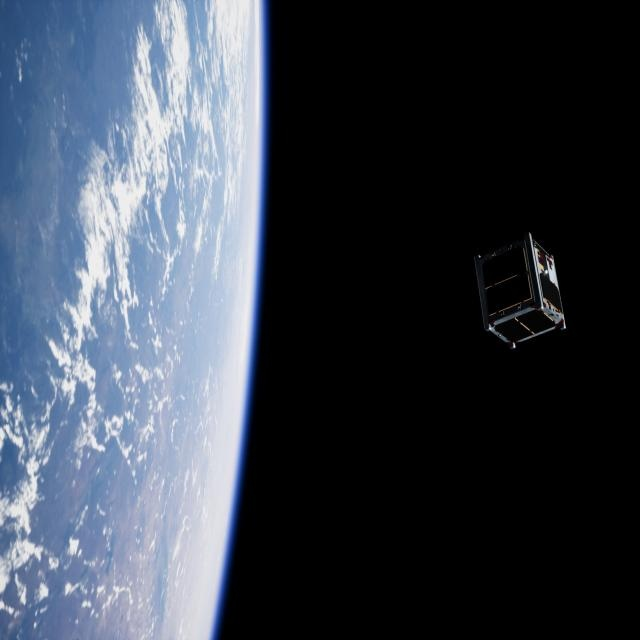satellite: (471, 229, 575, 354)
